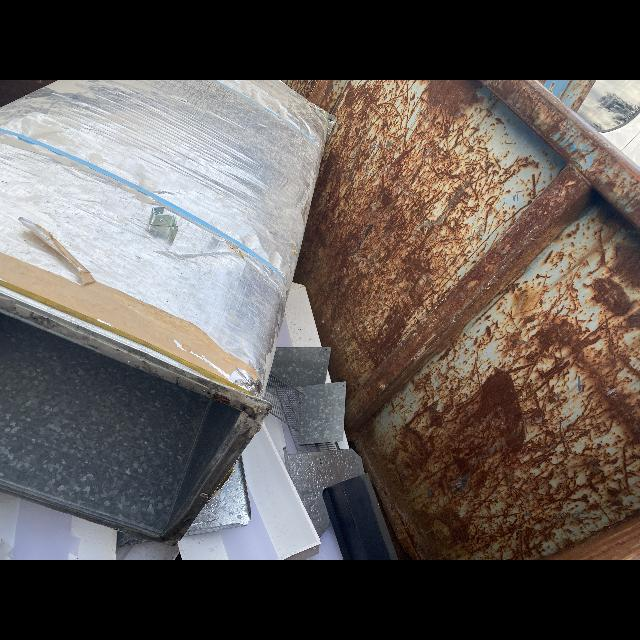Ferrous Metal: (241, 422, 321, 560), (323, 473, 398, 560), (263, 371, 304, 432), (285, 282, 322, 347), (68, 516, 118, 560), (178, 532, 229, 560), (288, 426, 340, 453), (0, 491, 20, 560), (115, 541, 180, 560)
Galvanized Steel: (0, 283, 272, 545), (288, 448, 365, 538), (184, 454, 251, 536), (299, 381, 347, 445), (271, 347, 331, 387), (117, 531, 150, 546), (324, 112, 336, 140)
